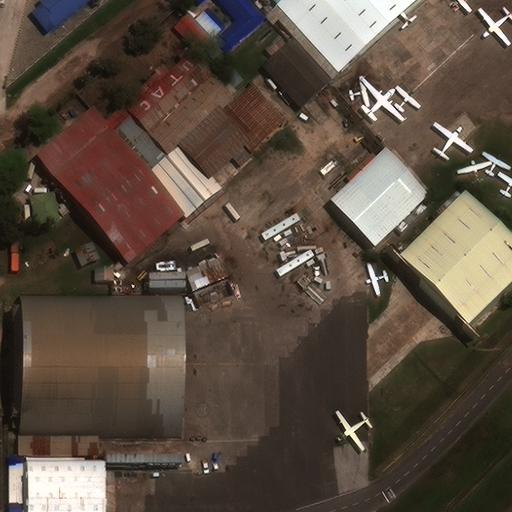Medium Civil Transport: (363, 78, 404, 120), (334, 413, 369, 451), (435, 121, 473, 156), (477, 11, 512, 46)
Small Civil Transport: (365, 264, 388, 296), (457, 160, 489, 181), (483, 151, 511, 175), (349, 75, 369, 105), (397, 85, 421, 110), (499, 171, 512, 195), (449, 0, 469, 13)
